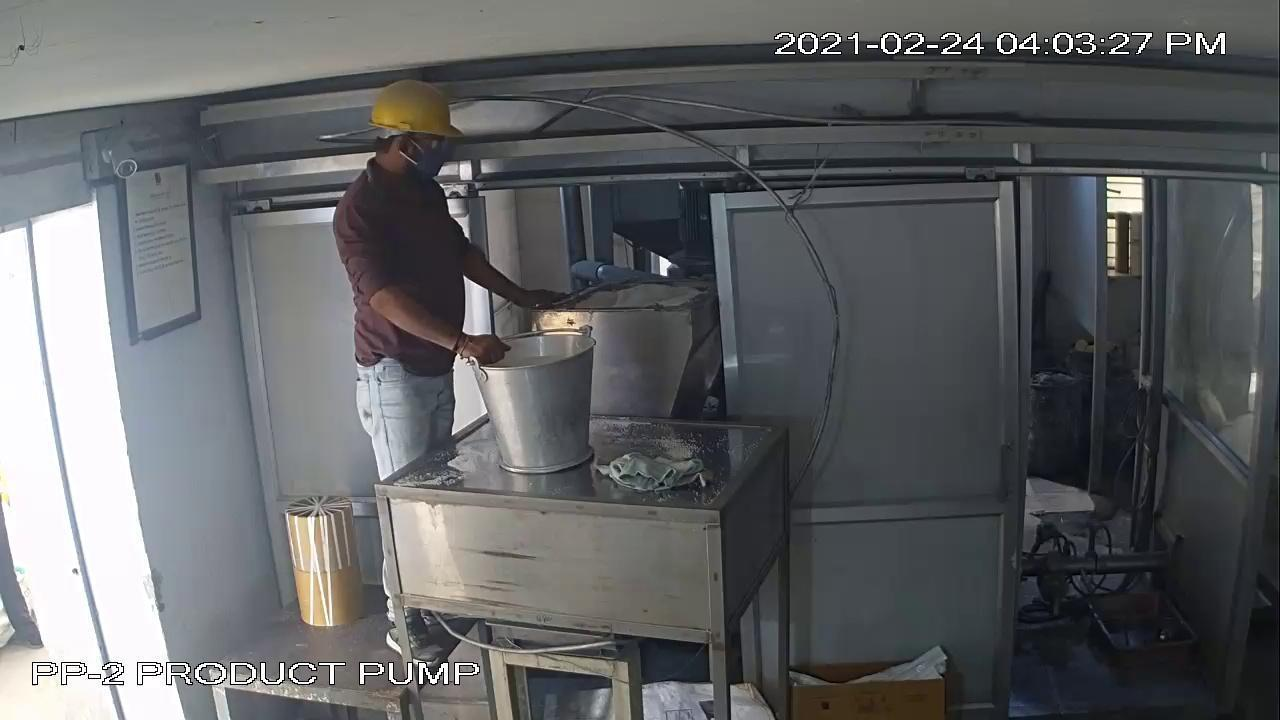helmet: (362, 72, 462, 131)
